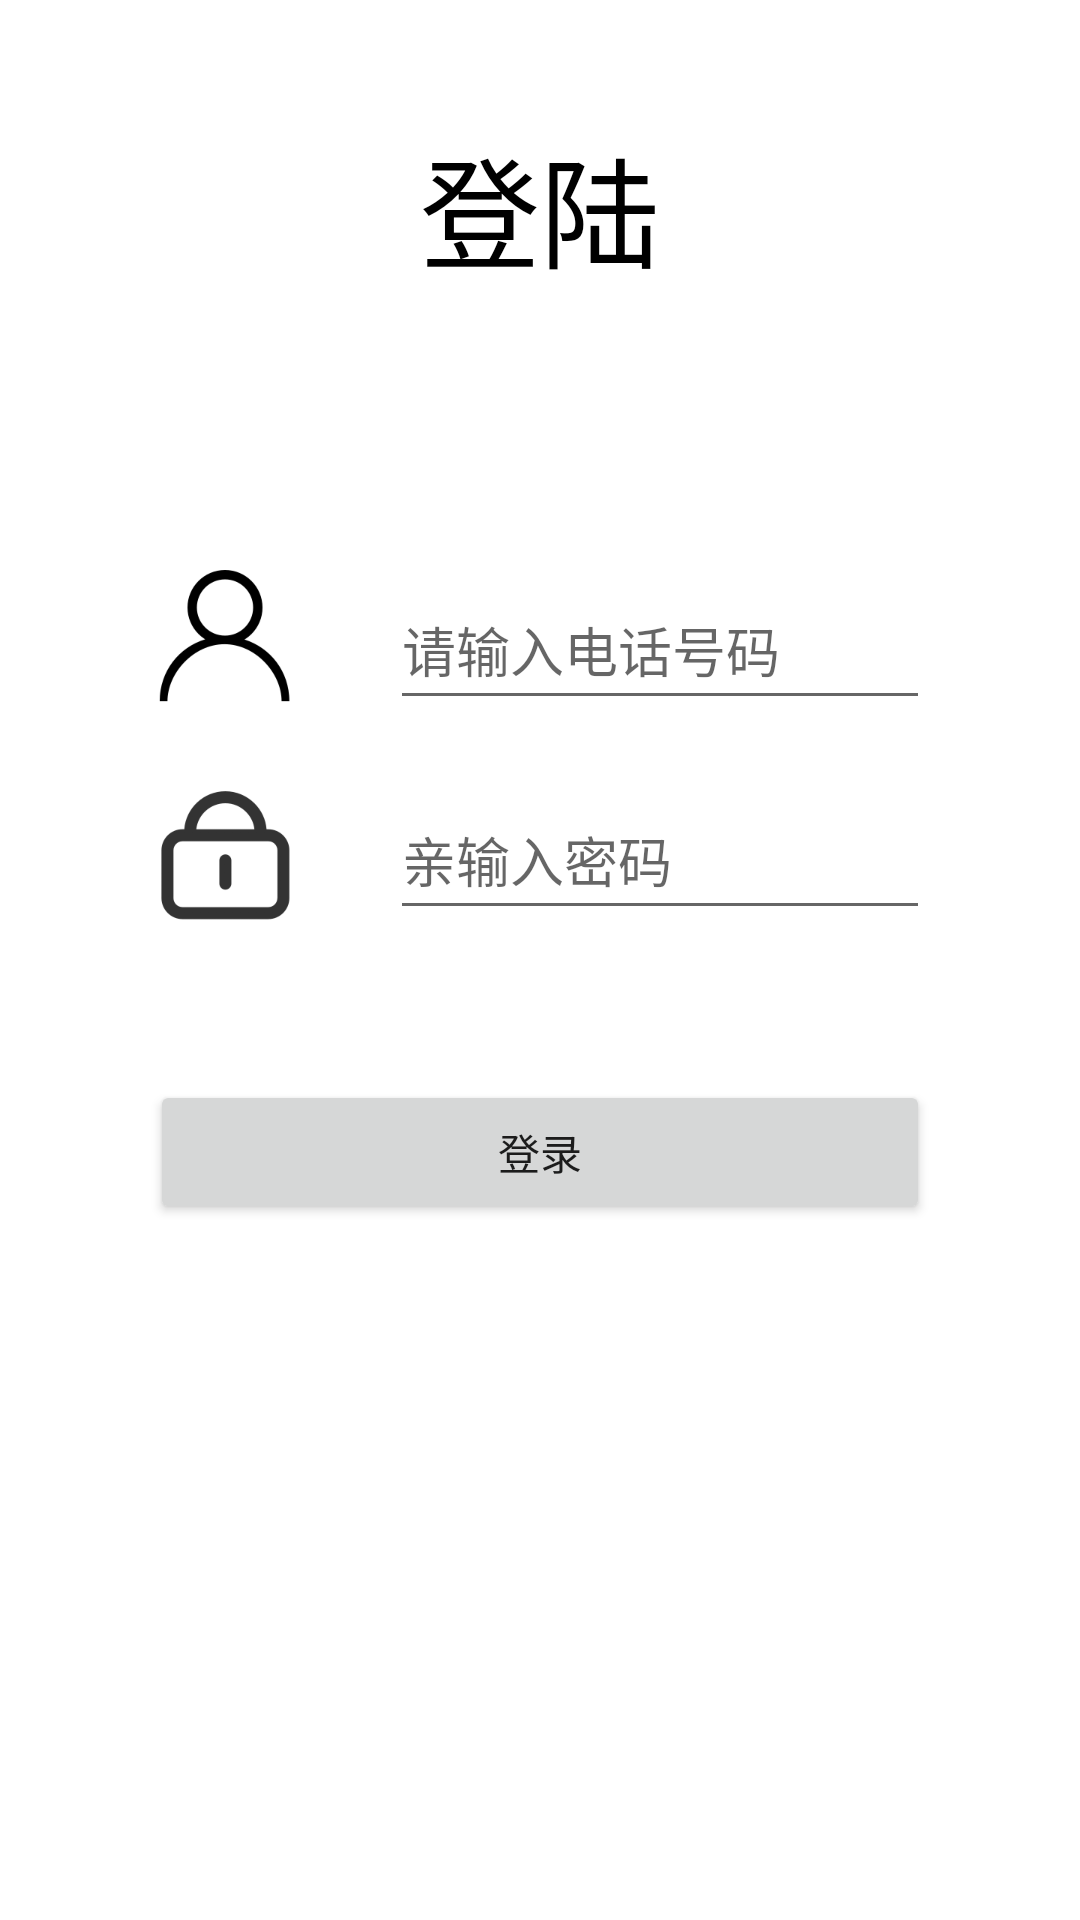

Where icons sit on this 1080x1920 app screen, as (x1, y1, x2, y2):
denglu: (159, 570, 290, 702)
mima: (161, 791, 290, 920)
